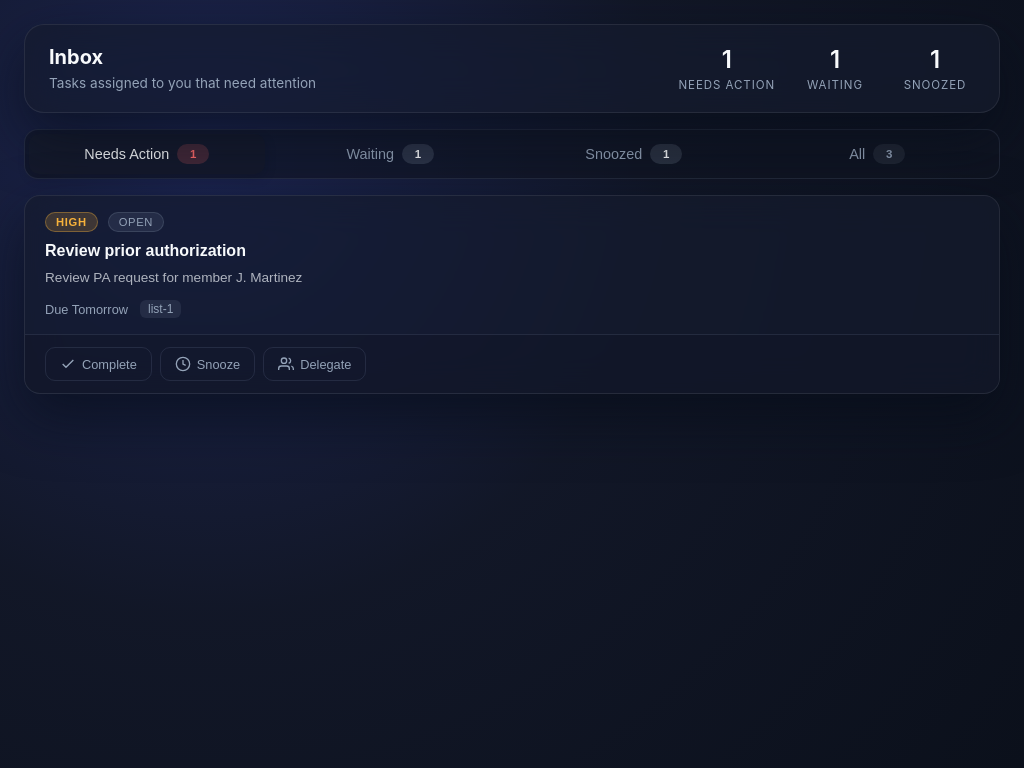
Test: InboxView › filters tasks by category correctly
expect the heading "Review prior authorization" is shown: met, box [45,242,246,259]
Note: Switch to "Waiting" tab
Click the tab "Waiting 1": (390, 154) [272,134,508,174]
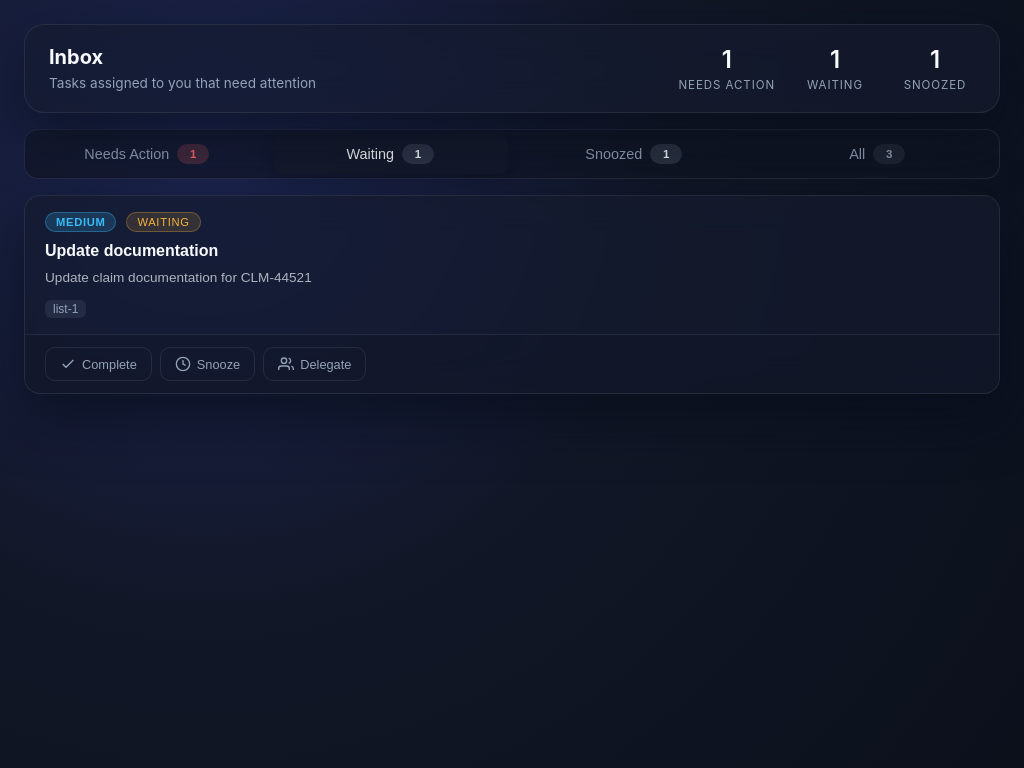
expect the heading "Update documentation" is shown: met, box [45,242,218,259]
Note: Switch to "Snoozed" tab
Click the tab "Snoozed 1": (634, 154) [516,134,752,174]
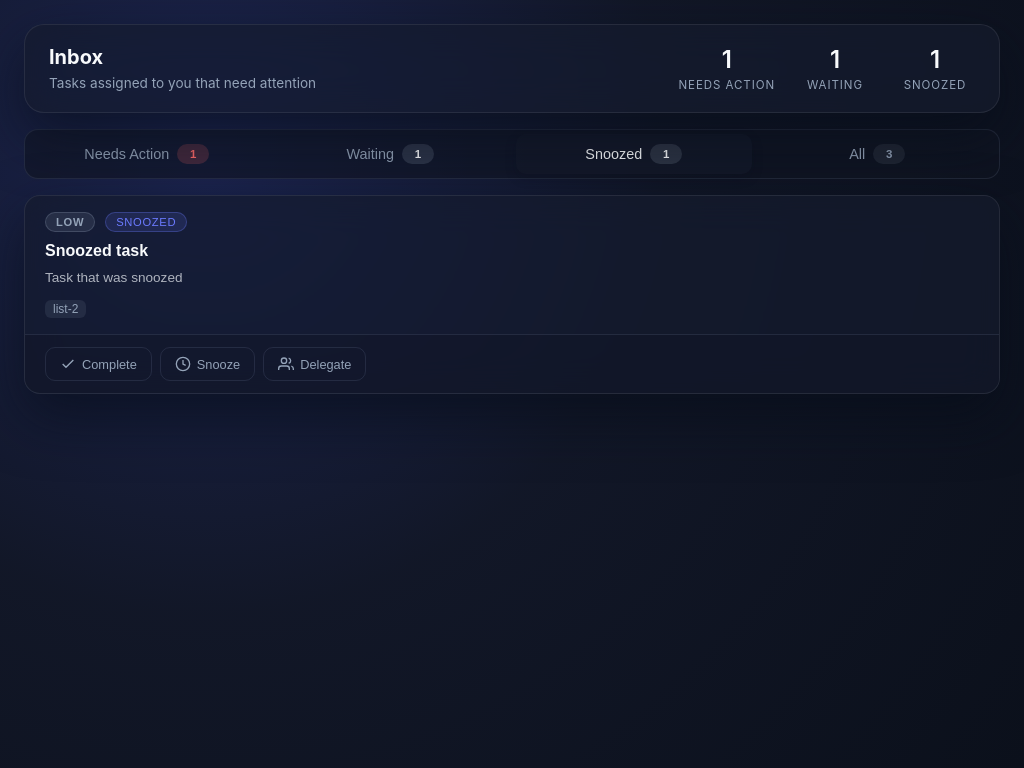
expect the heading "Snoozed task" is shown: met, box [45,242,148,259]
